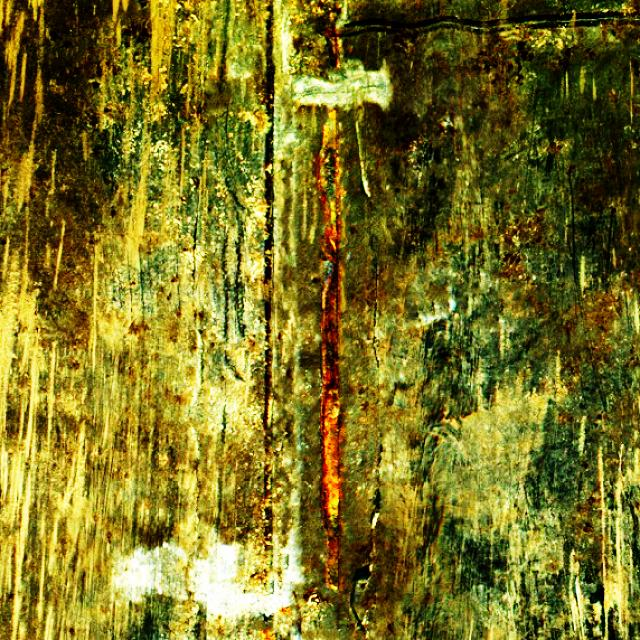Corrosion: (314, 108, 344, 589), (317, 25, 340, 68), (276, 605, 294, 616), (257, 629, 276, 639)
